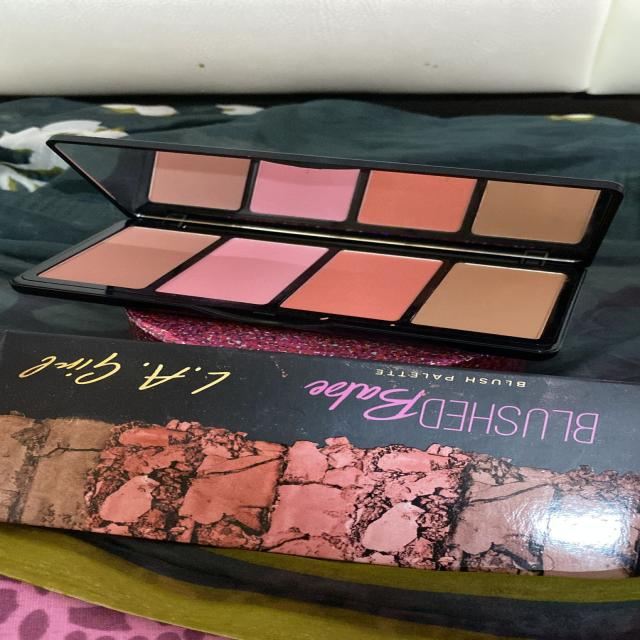blush: (260, 234, 437, 346), (37, 215, 221, 307), (176, 222, 311, 318)
